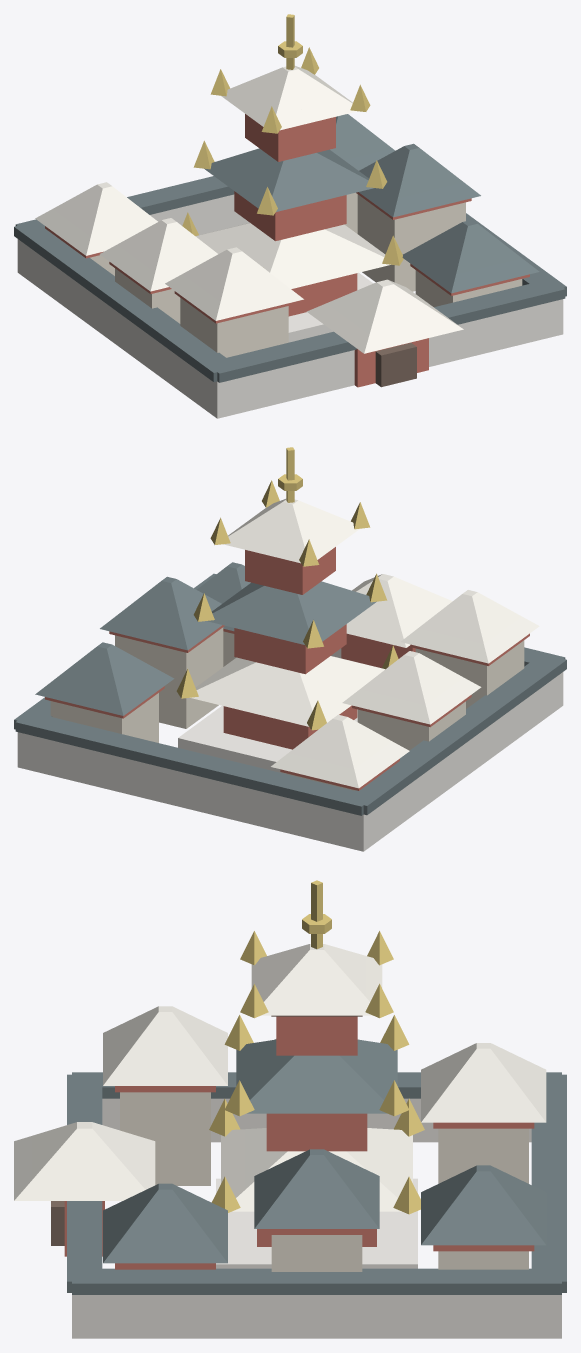
File: city.glb
The picture shows the model from 3 angles, top to bottom: view 1: azimuth 30°, elevation 25°; view 2: azimuth 150°, elevation 25°; view 3: azimuth 270°, elevation 25°; orthographic projection. The views are drawn at different scales.
Parts seen in each view (by area): view 1: east_asian_city; view 2: east_asian_city; view 3: east_asian_city.
Boxes of the visible parts, x1,y1,x2,y2 form: east_asian_city: (14, 14, 566, 418); east_asian_city: (14, 447, 566, 851); east_asian_city: (14, 880, 566, 1338).
Bounding box in the file's own units: 0.9041 × 0.7032 × 1.
